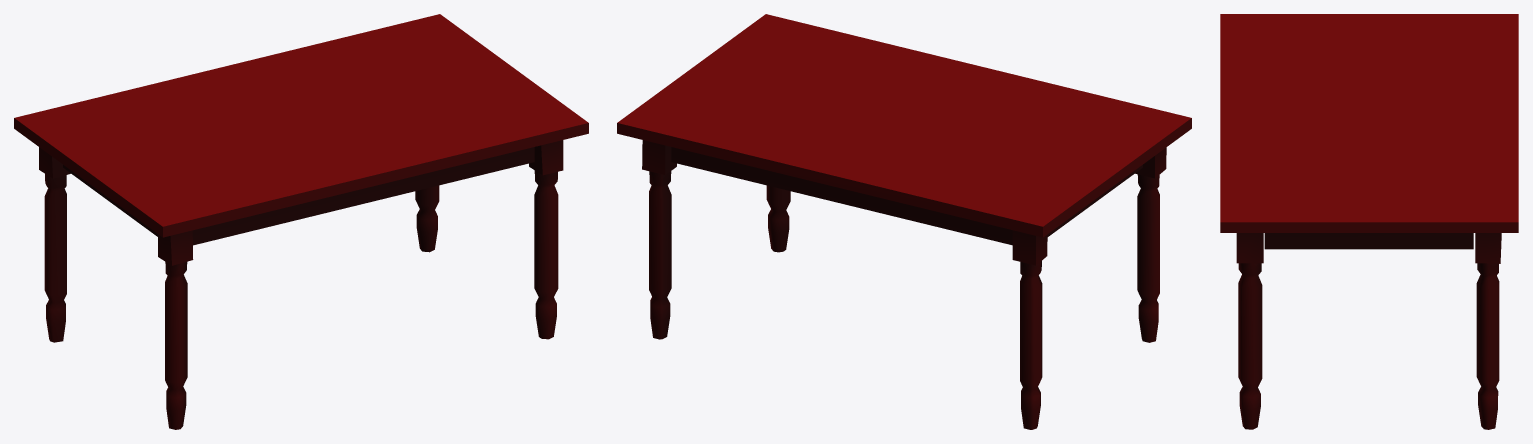
The model's file is TraditionalWoodTable002.glb.
The picture shows the model from 3 angles, left to right: view 1: azimuth 30°, elevation 25°; view 2: azimuth 150°, elevation 25°; view 3: azimuth 270°, elevation 25°; orthographic projection.
Visible parts, largest first — view 1: TraditionalWoodTable002; view 2: TraditionalWoodTable002; view 3: TraditionalWoodTable002.
Part boxes in pixels (x1,y1,x2,y2): TraditionalWoodTable002: (14, 14, 588, 429); TraditionalWoodTable002: (617, 14, 1191, 429); TraditionalWoodTable002: (1220, 14, 1518, 429).
Bounding box in the file's own units: 5.66 × 2.76 × 3.42.
